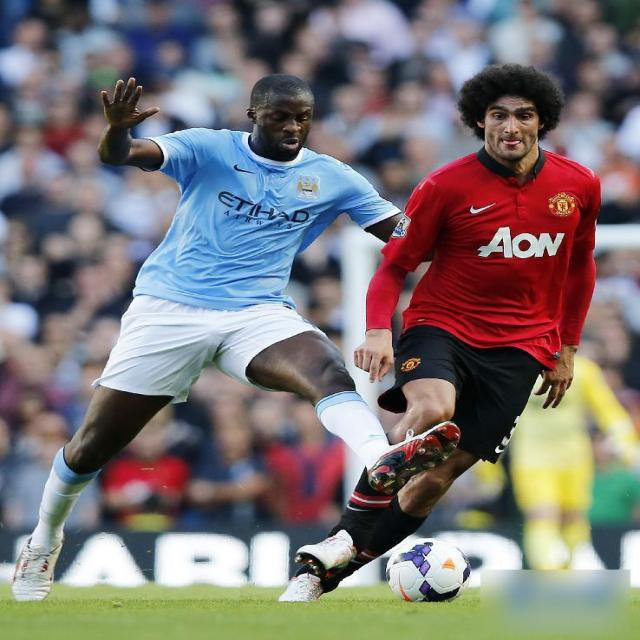Manusia: (116, 78, 362, 494), (408, 69, 580, 503)
